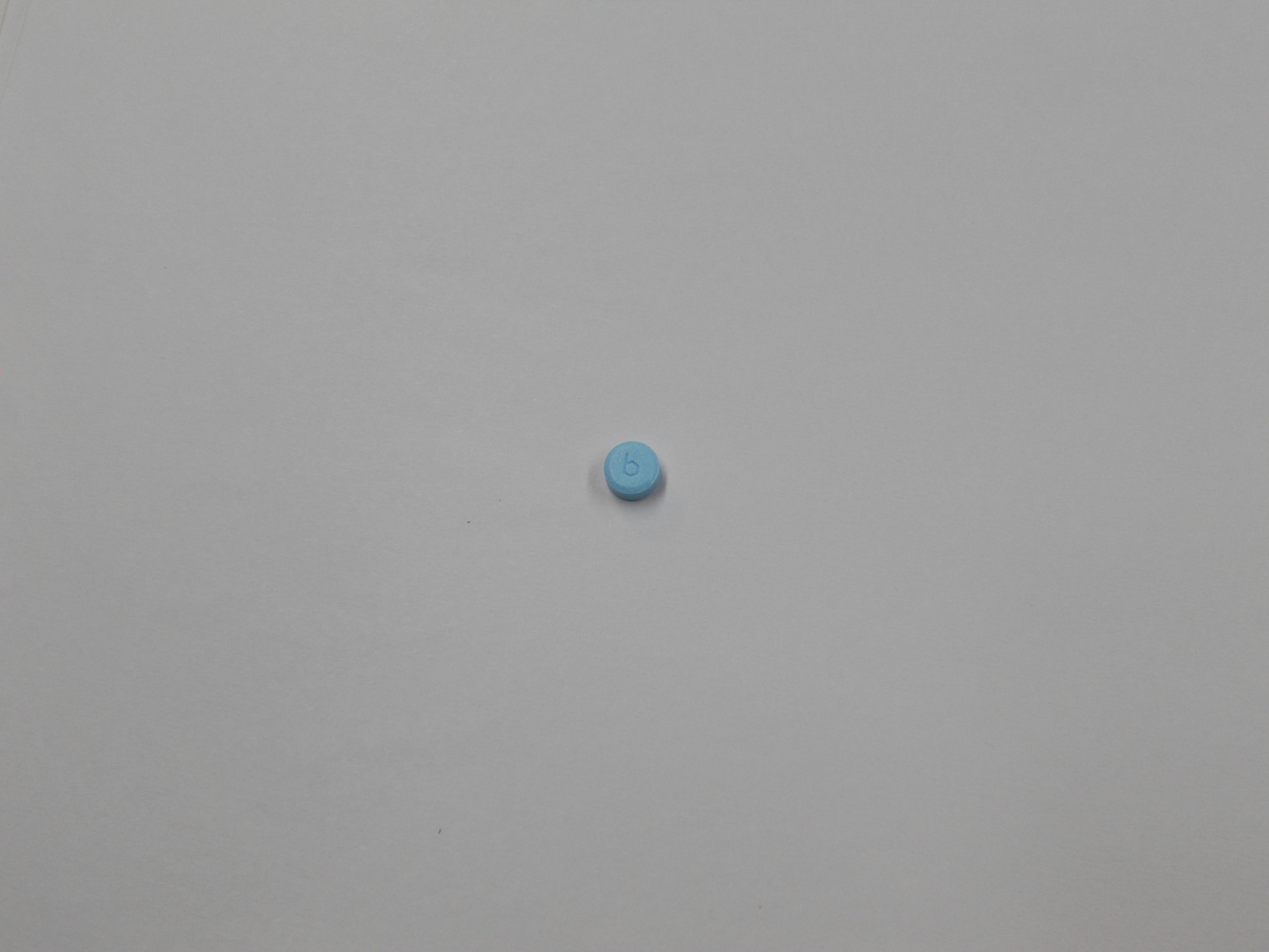Pill: (598, 435, 673, 509)
